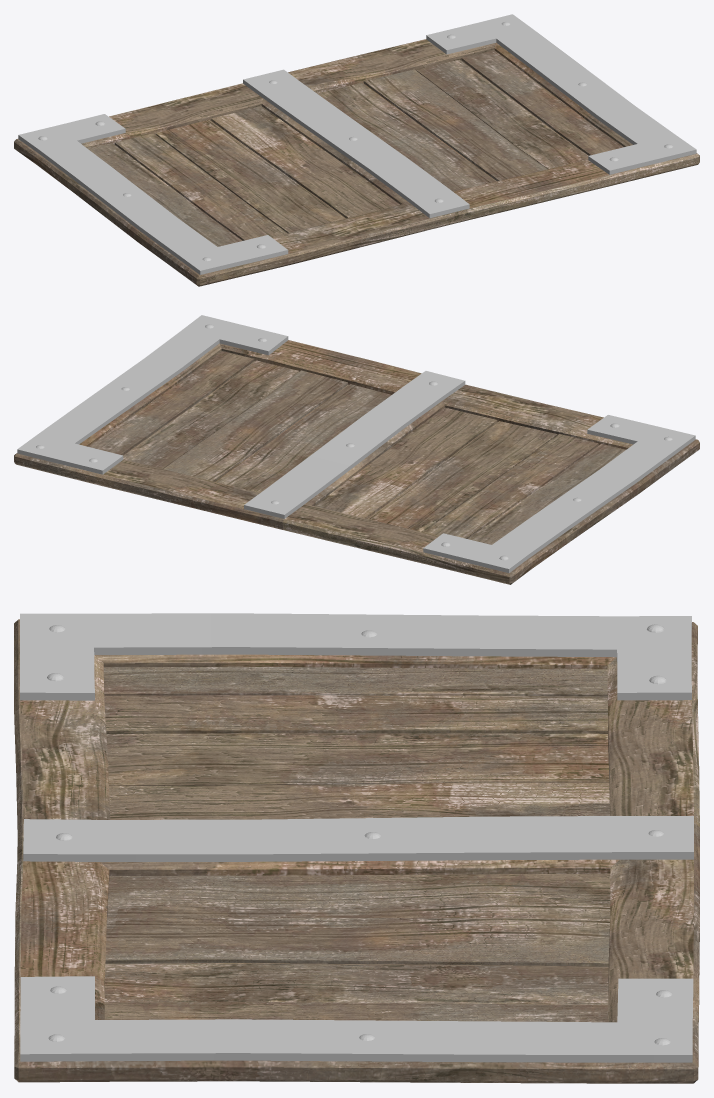
Rendered from SM_Crate_Lid_A_01.fbx.
The picture shows the model from 3 angles, top to bottom: view 1: azimuth 30°, elevation 25°; view 2: azimuth 150°, elevation 25°; view 3: azimuth 270°, elevation 25°; orthographic projection. The views are drawn at different scales.
Parts seen in each view (by area): view 1: SM_Crate_Lid_A_01_LOD0; view 2: SM_Crate_Lid_A_01_LOD0; view 3: SM_Crate_Lid_A_01_LOD0.
Boxes of the visible parts, x1,y1,x2,y2 form: SM_Crate_Lid_A_01_LOD0: (14, 14, 699, 286); SM_Crate_Lid_A_01_LOD0: (14, 315, 699, 584); SM_Crate_Lid_A_01_LOD0: (14, 613, 699, 1083).
Bounding box in the file's own units: 89.28 × 57.81 × 3.04.
